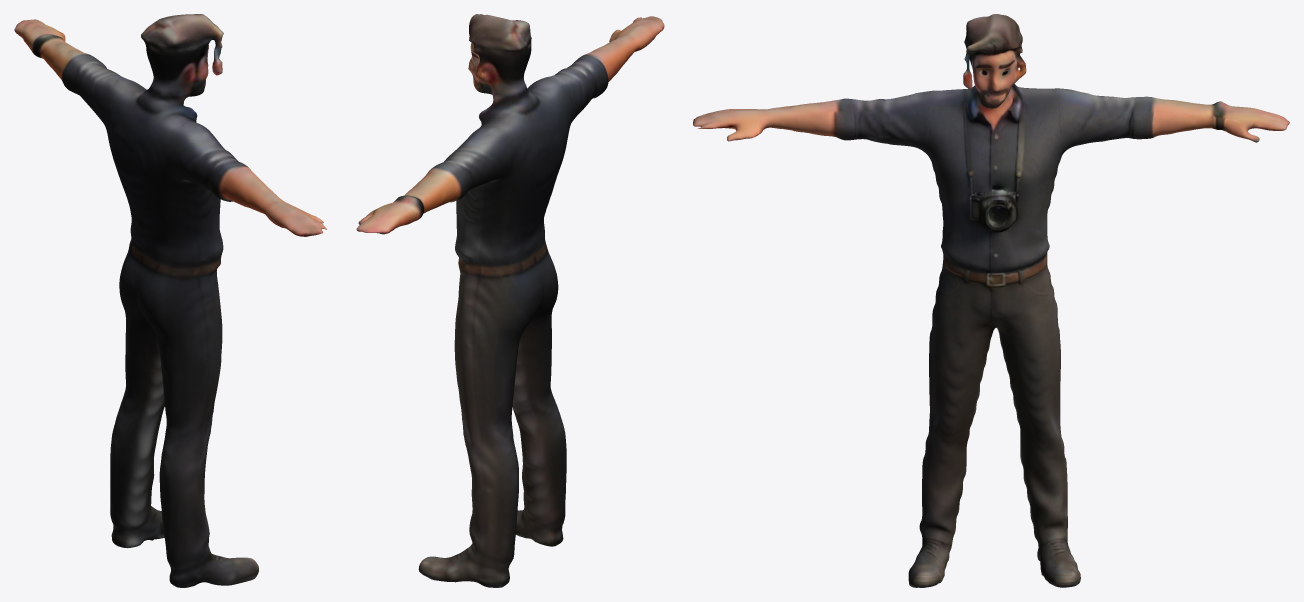
File: avatar_food_photographer.glb
The picture shows the model from 3 angles, left to right: view 1: azimuth 30°, elevation 25°; view 2: azimuth 150°, elevation 25°; view 3: azimuth 270°, elevation 25°; orthographic projection. The views are drawn at different scales.
Visible parts, largest first — view 1: tripo_node_e24c6a5c-1a59-4e54-adb7-98661c1bd8a6; view 2: tripo_node_e24c6a5c-1a59-4e54-adb7-98661c1bd8a6; view 3: tripo_node_e24c6a5c-1a59-4e54-adb7-98661c1bd8a6.
Part boxes in pixels (left/top/right/bottom): tripo_node_e24c6a5c-1a59-4e54-adb7-98661c1bd8a6: left=14, top=14, right=327, bottom=587; tripo_node_e24c6a5c-1a59-4e54-adb7-98661c1bd8a6: left=356, top=14, right=664, bottom=587; tripo_node_e24c6a5c-1a59-4e54-adb7-98661c1bd8a6: left=693, top=14, right=1289, bottom=587.
Size of the model in its own units: 0.1477 by 0.7764 by 0.7616.
1 material, 1 textured.
